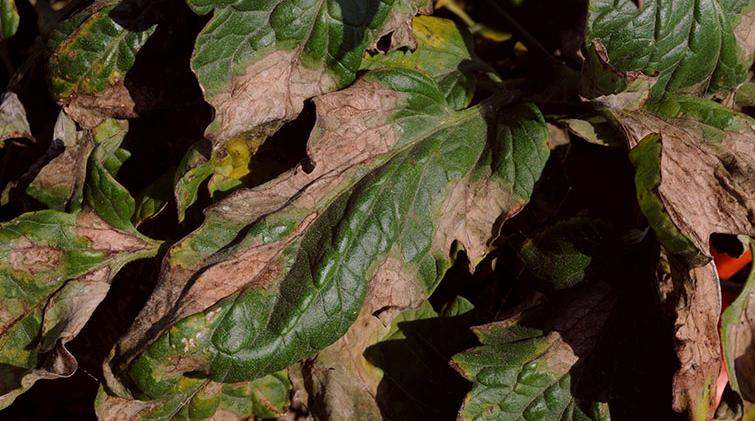Tomato leaf late blight: (106, 76, 563, 421), (578, 35, 755, 330), (172, 0, 468, 159), (433, 255, 673, 421), (0, 193, 163, 421), (552, 0, 755, 96)
